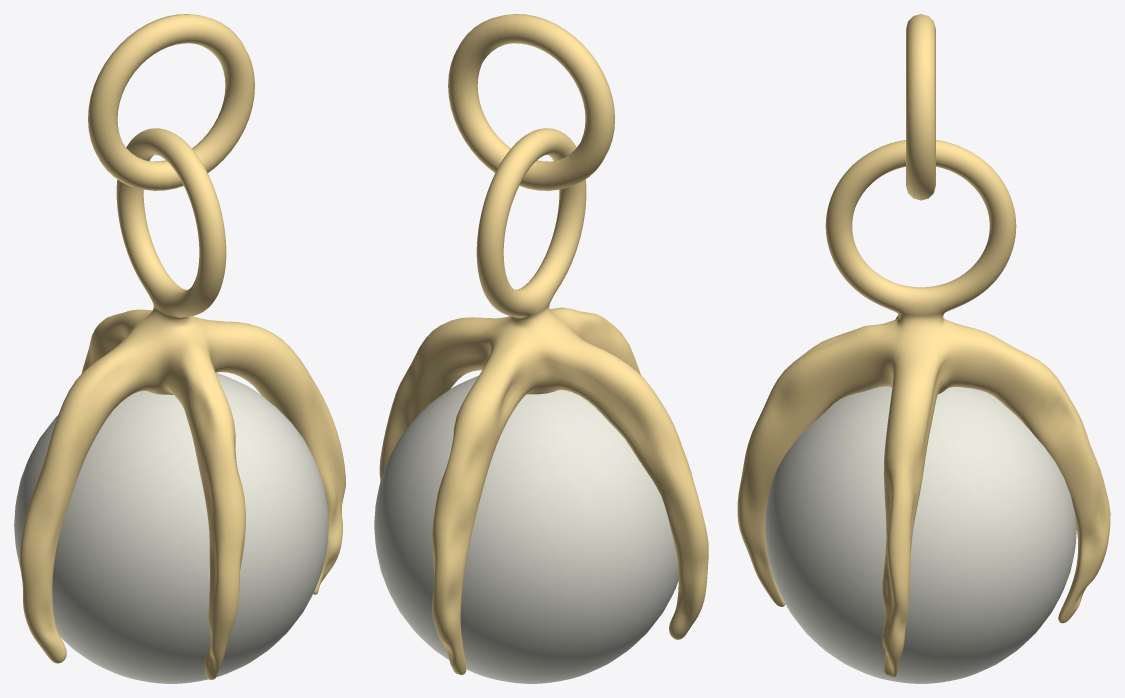
Rendered from pearl_drop.glb.
3 views of the same model, side by side, from view 1: azimuth 30°, elevation 25°; view 2: azimuth 150°, elevation 25°; view 3: azimuth 270°, elevation 25° (orthographic).
Parts seen in each view (by area): view 1: dem_drop_low, pearl; view 2: dem_drop_low, pearl; view 3: pearl, dem_drop_low.
Part boxes in pixels (x1,y1,x2,y2): dem_drop_low: (19, 14, 345, 679); pearl: (14, 373, 328, 683); dem_drop_low: (379, 14, 708, 674); pearl: (374, 375, 678, 683); pearl: (765, 386, 1076, 683); dem_drop_low: (737, 14, 1110, 677).
Size of the model in its own units: 0.0049 by 0.00941 by 0.00491.
Materials: 2 (2 with a texture image).
